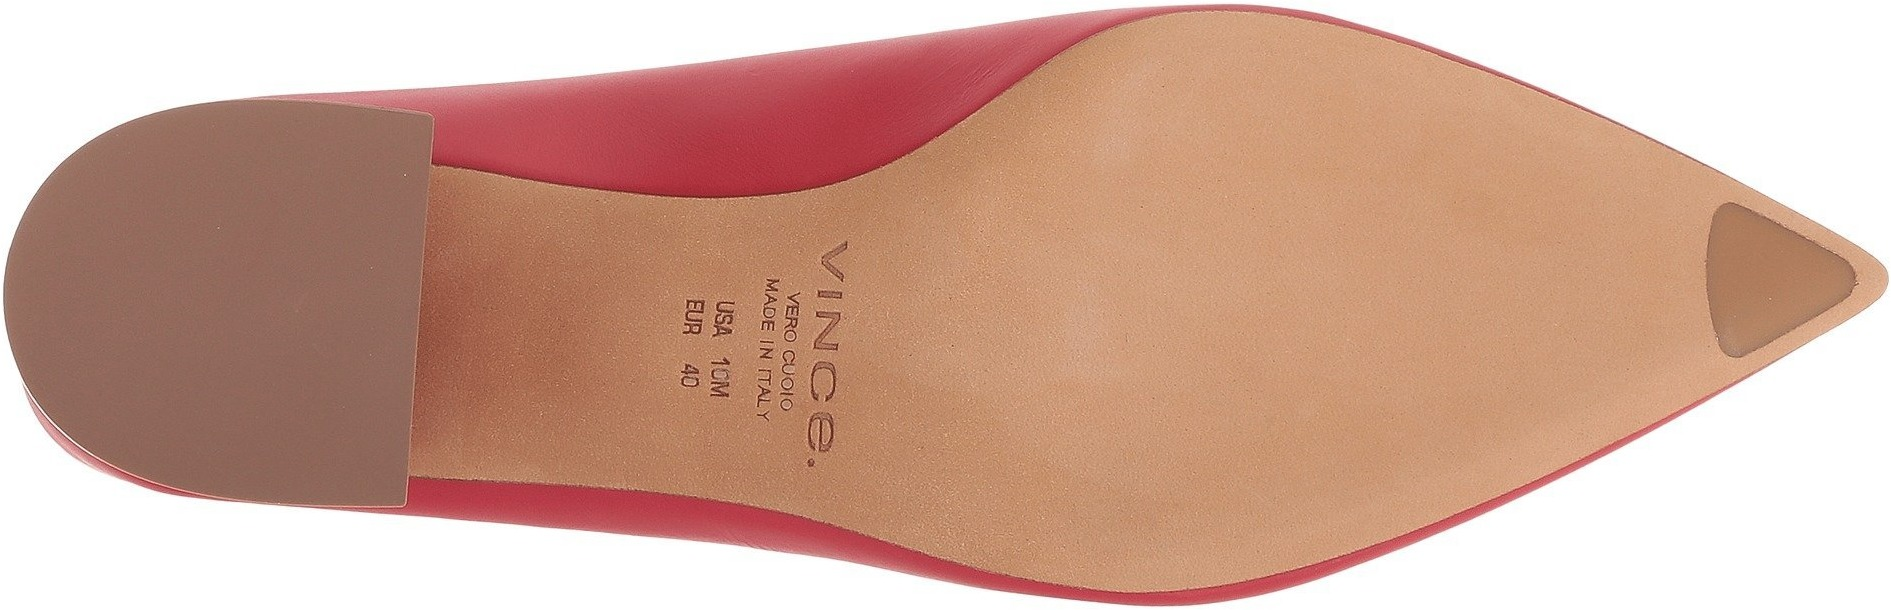other: (1242, 108, 1579, 421), (904, 162, 1225, 475), (90, 166, 404, 458), (1082, 483, 1192, 577)
